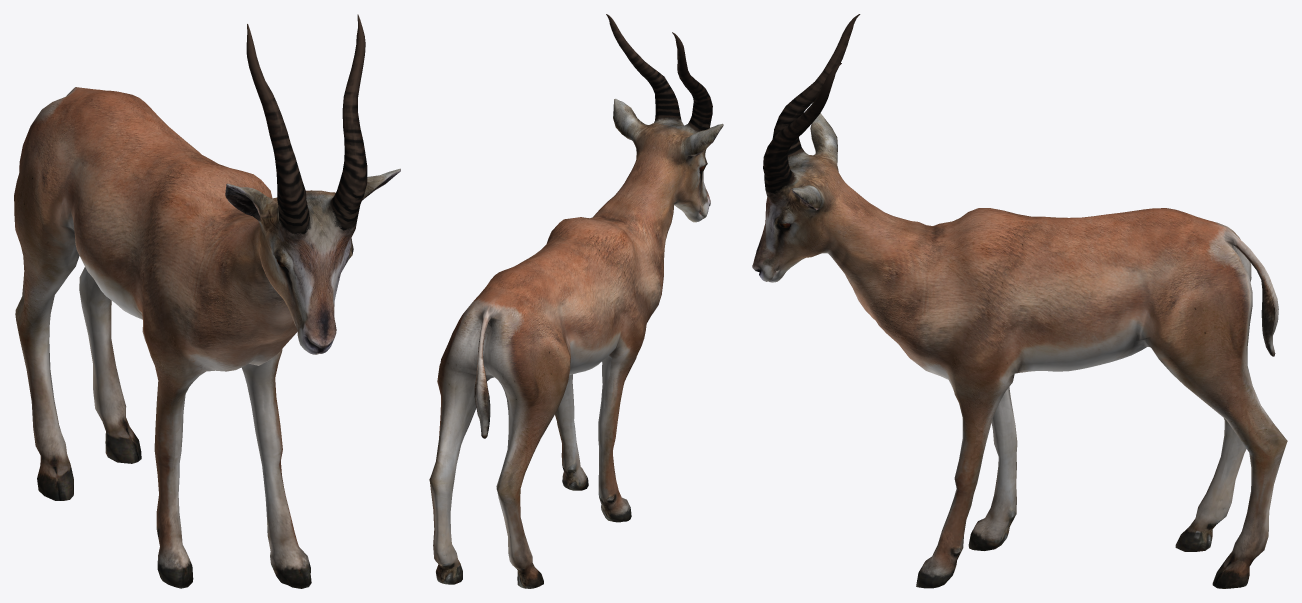
The model's file is gazelle.glb.
The picture shows the model from 3 angles, left to right: view 1: azimuth 30°, elevation 25°; view 2: azimuth 150°, elevation 25°; view 3: azimuth 270°, elevation 25°; orthographic projection. The views are drawn at different scales.
Parts seen in each view (by area): view 1: gazelle; view 2: gazelle; view 3: gazelle.
Part boxes in pixels (x1,y1,x2,y2): gazelle: (14,14,400,588); gazelle: (429,14,723,588); gazelle: (752,14,1287,588).
Bounding box in the file's own units: 0.3453 × 1.25 × 1.13.
Materials: 1 (1 with a texture image).
